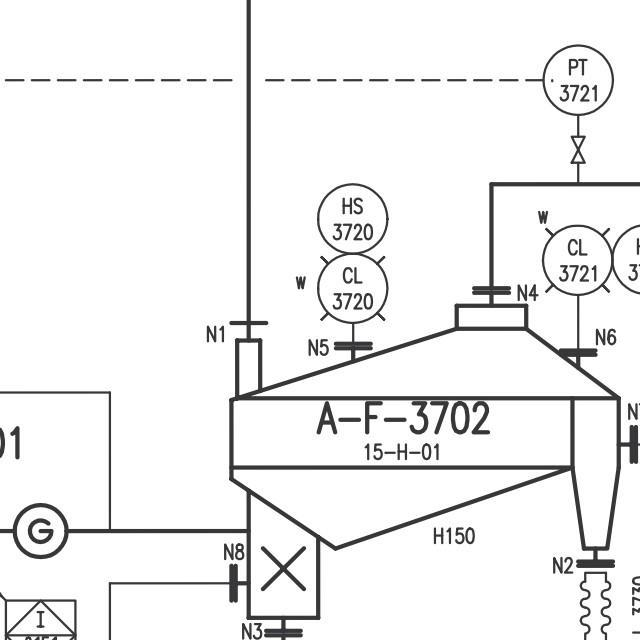A2: (215, 297, 626, 628)
EJ: (577, 564, 618, 640)
GV: (566, 128, 593, 167)
